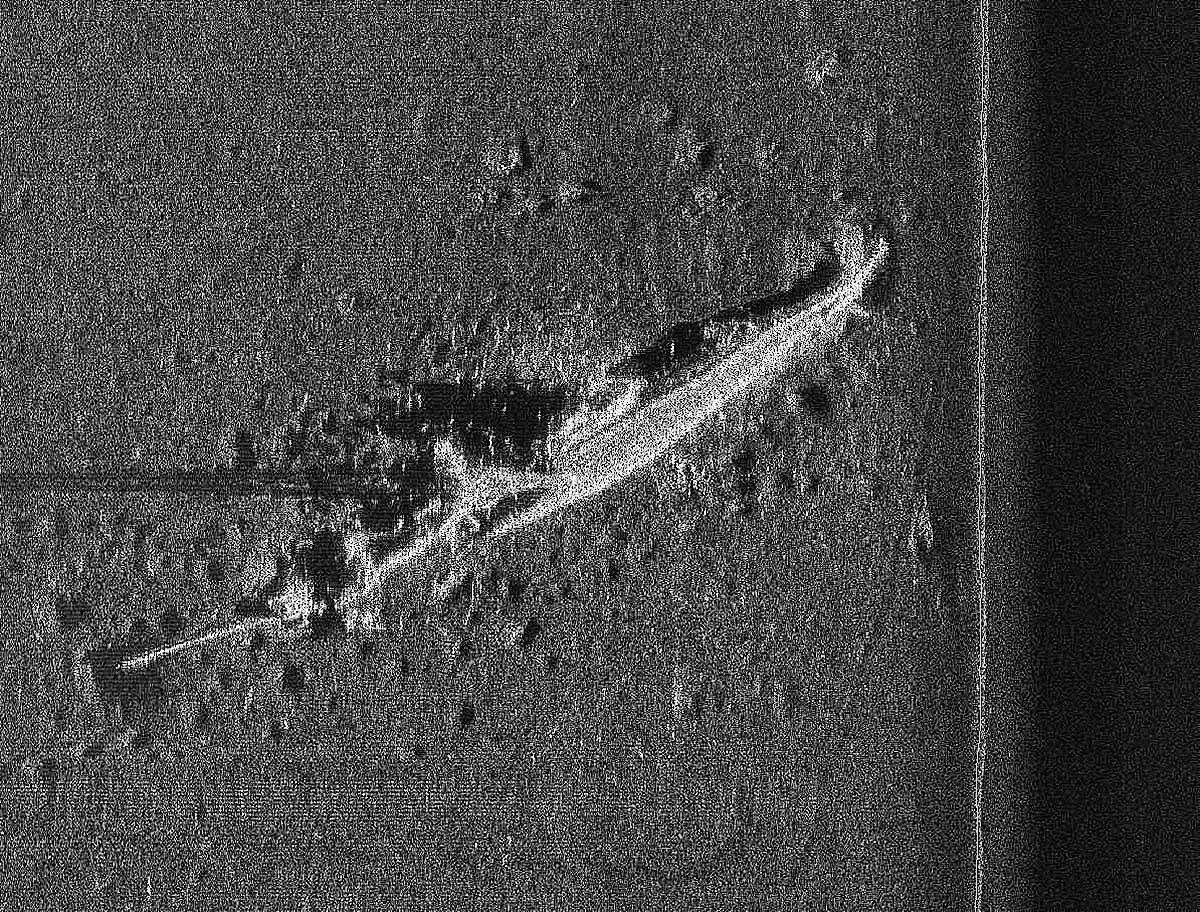ship: (109, 226, 915, 685)
